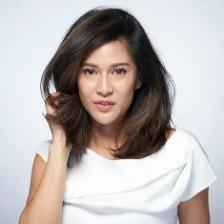Non hijab: (40, 8, 178, 163)
